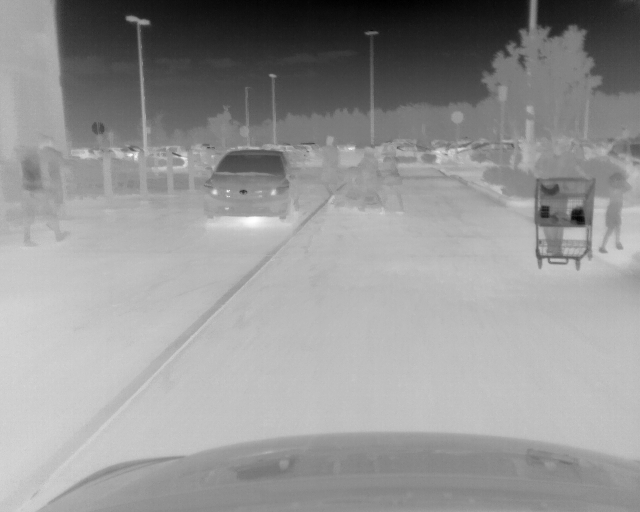car: (203, 149, 299, 222)
people: (537, 138, 592, 254), (20, 135, 70, 247), (41, 137, 65, 230), (599, 174, 624, 254), (317, 135, 341, 205), (357, 146, 382, 212), (382, 147, 404, 214)
